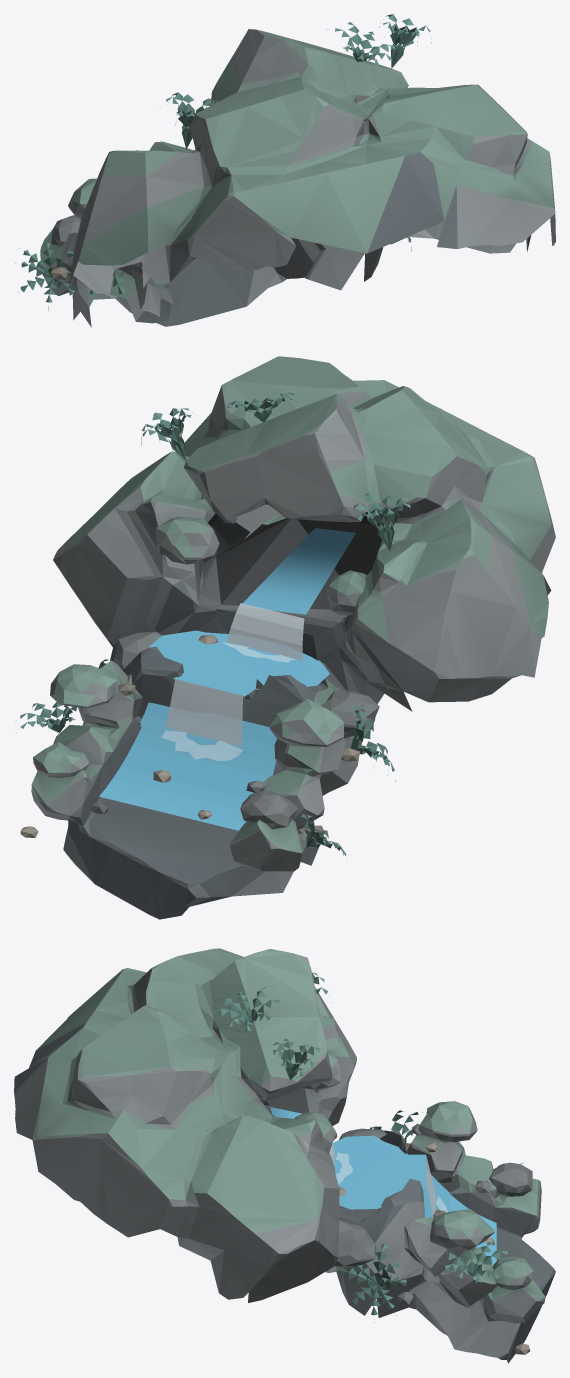
The model's file is spring_cave.glb.
3 renders of one model, top to bottom at view 1: azimuth 30°, elevation 25°; view 2: azimuth 150°, elevation 25°; view 3: azimuth 270°, elevation 25°, orthographic. The views are drawn at different scales.
Visible parts, largest first — view 1: rock; view 2: rock, water, water_fall, water_foam; view 3: rock, water.
Part boxes in pixels (x1,y1,x2,y2): rock: (15,14,555,327); rock: (20,356,555,919); water: (99,528,355,830); water_fall: (166,603,304,746); water_foam: (161,642,294,761); rock: (14,948,555,1363); water: (270,1107,496,1265).
Bounding box in the file's own units: 9.27 × 7.73 × 10.11.
